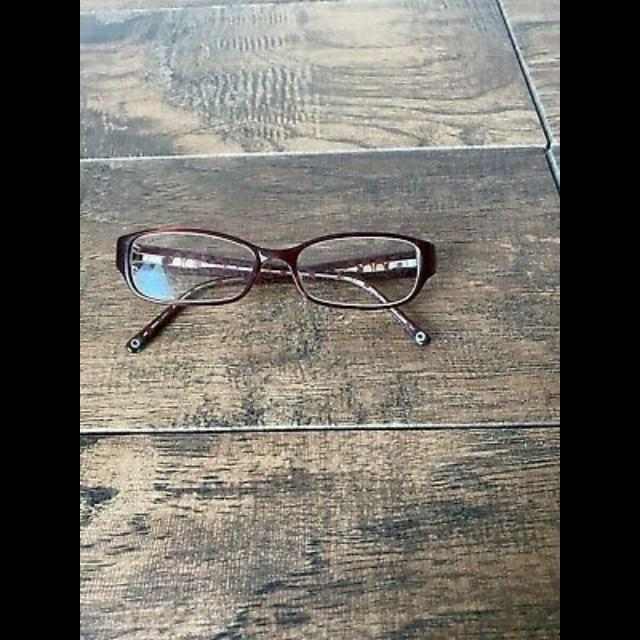glasses: (105, 230, 442, 356)
